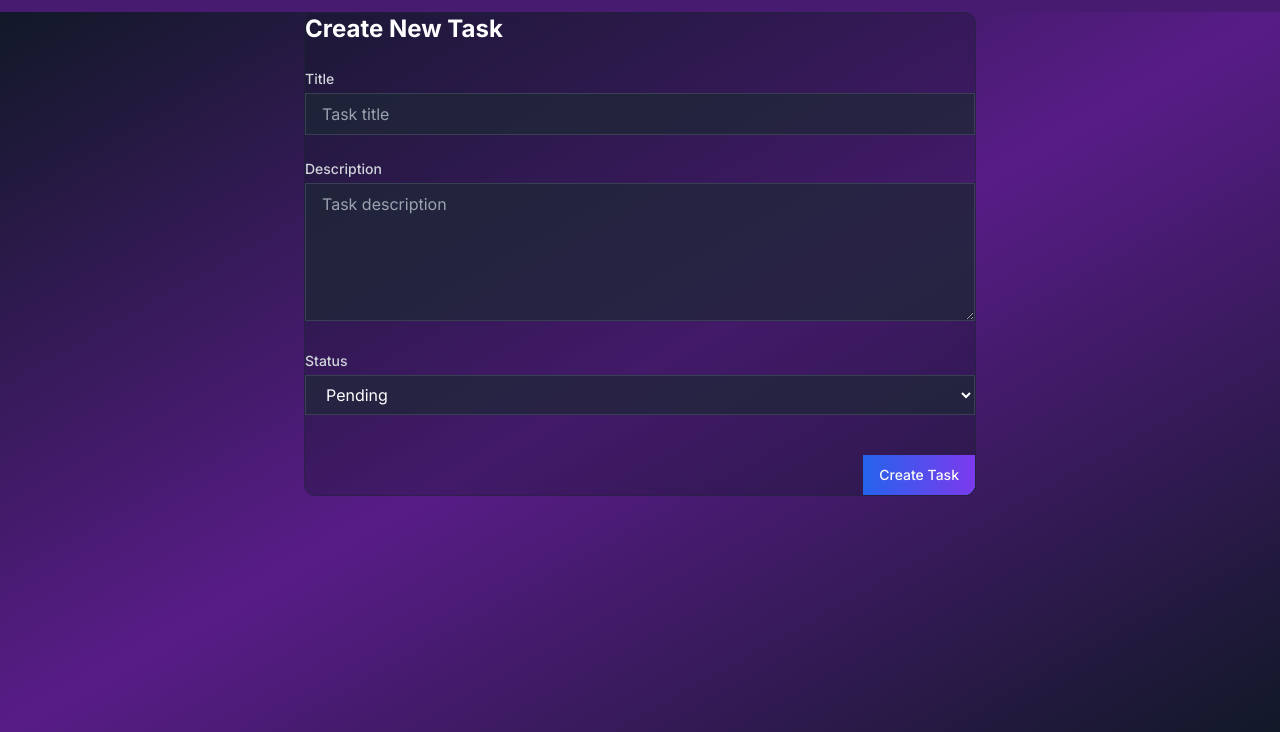
Test: TaskForm component › validates form inputs
The image size is (1280, 732).
// Try to submit with empty fields
Click the button "Create Task": (919, 475) 863,455 -> 975,495
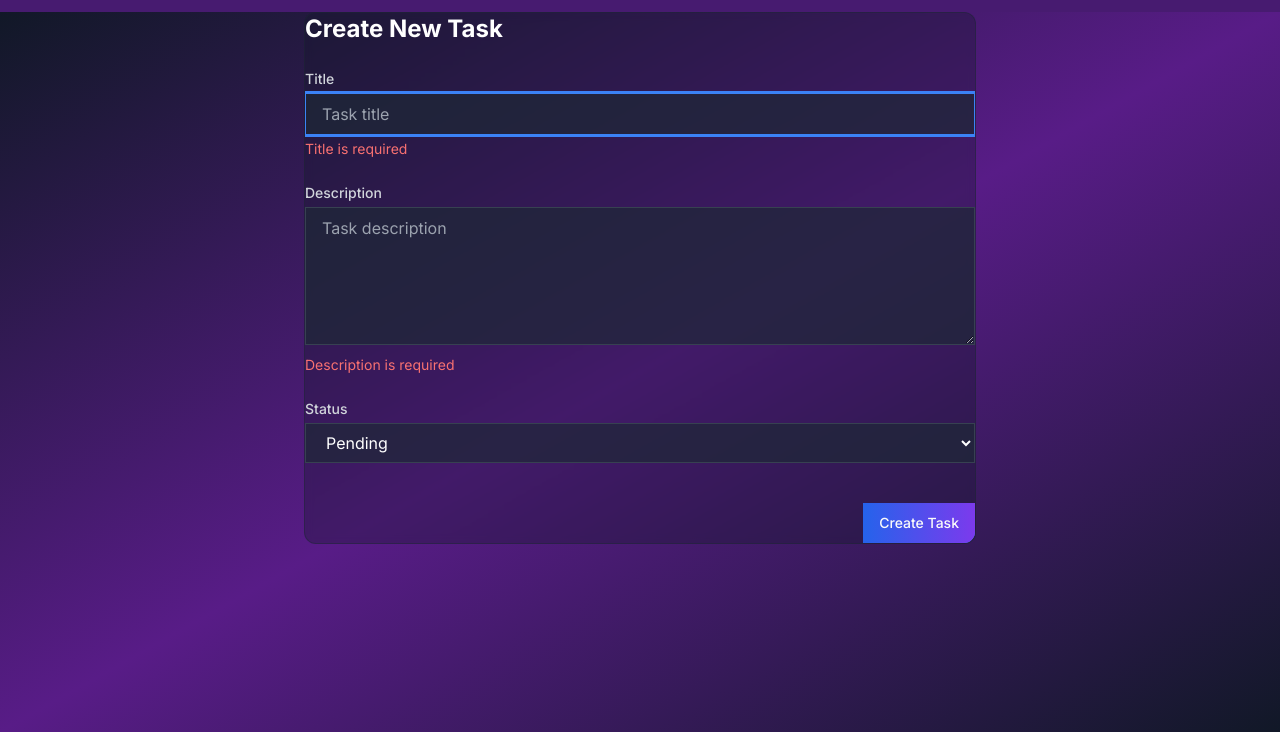
Expected: the text "Title is required" is shown, 305,140 -> 407,157
Expected: the text "Description is required" is shown, 305,356 -> 454,373
